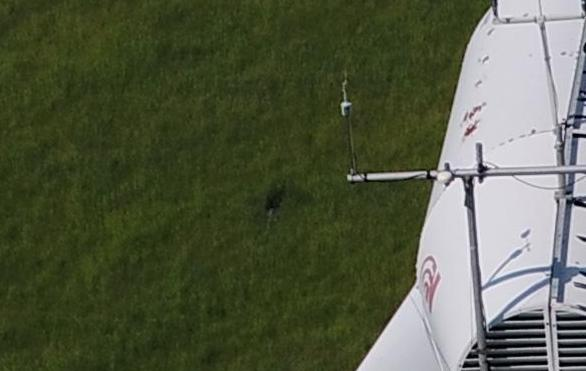damage: (460, 101, 489, 126), (462, 119, 480, 144), (478, 55, 490, 66), (473, 79, 483, 89), (487, 27, 495, 37)
